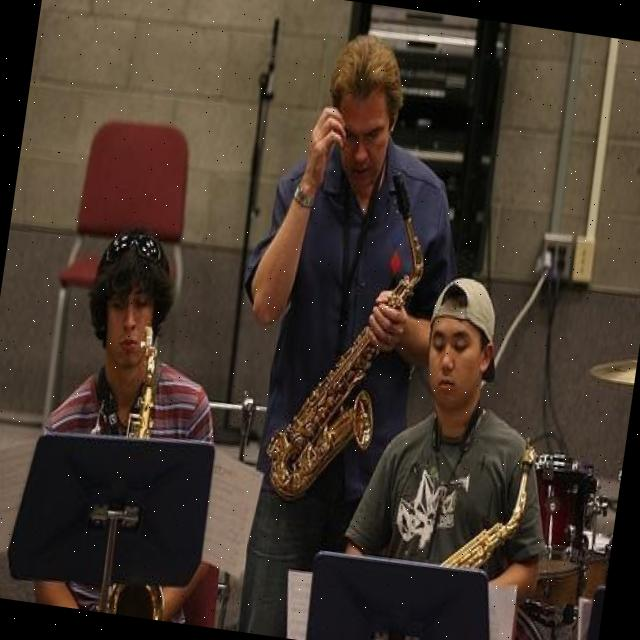drums: (497, 322, 640, 640)
saxophone: (262, 152, 442, 515), (92, 318, 206, 621), (428, 429, 544, 577)
